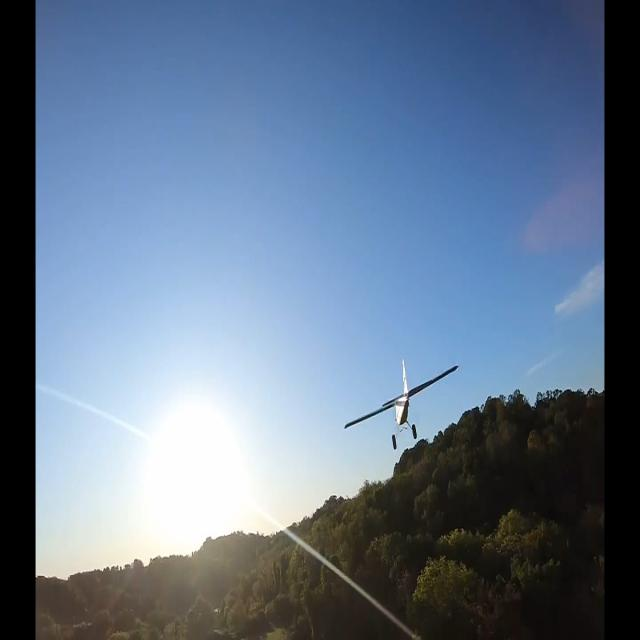iha: (375, 386, 427, 428)
